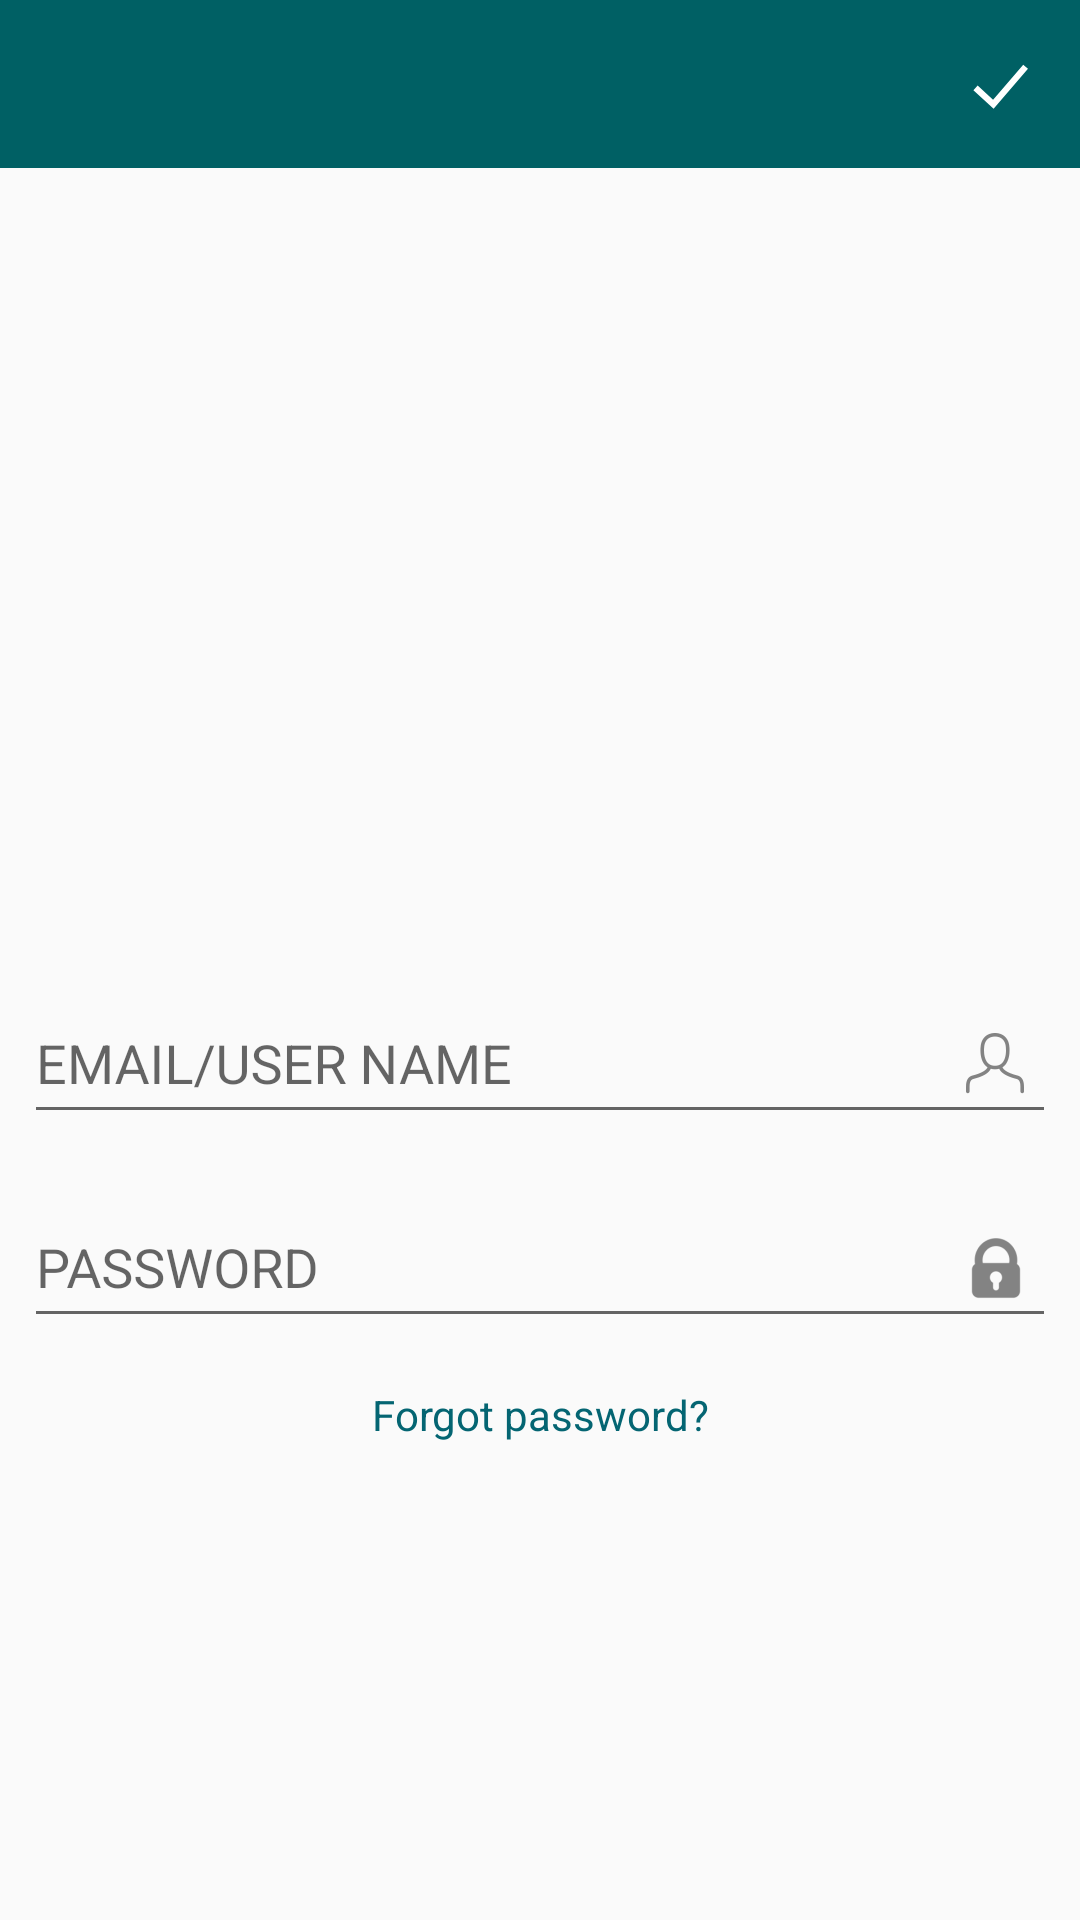

Where to tap for icons on this 1080*1920 app screen, as (x,y):
tick: (1000,87)
